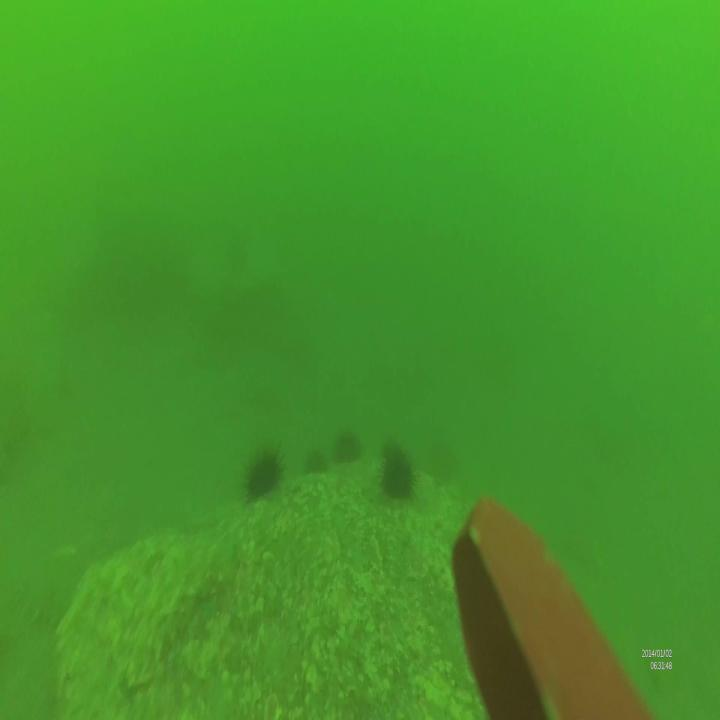echinus: (239, 448, 290, 502), (376, 436, 417, 499), (329, 433, 362, 467), (302, 445, 324, 478)
